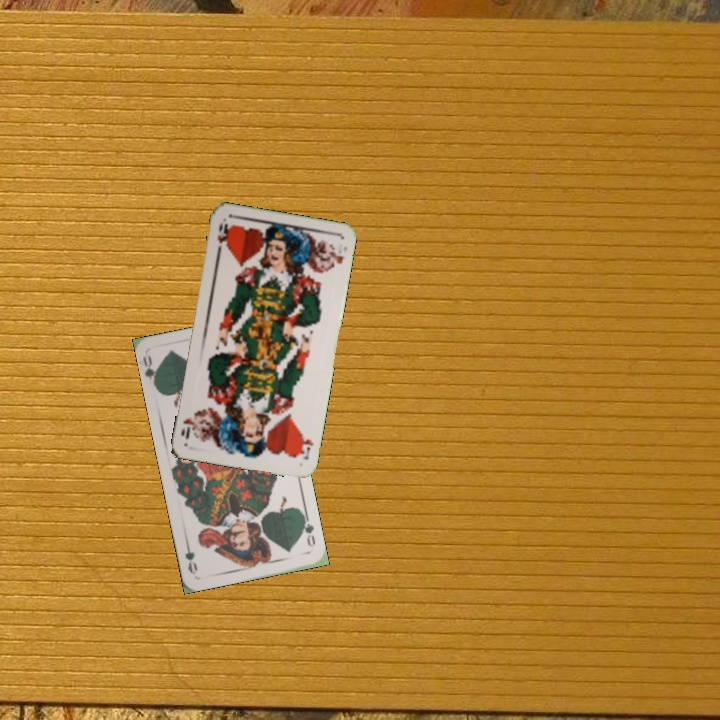GO: (139, 352, 161, 391), (298, 511, 318, 550)
HO: (213, 219, 231, 257), (295, 429, 315, 462)
